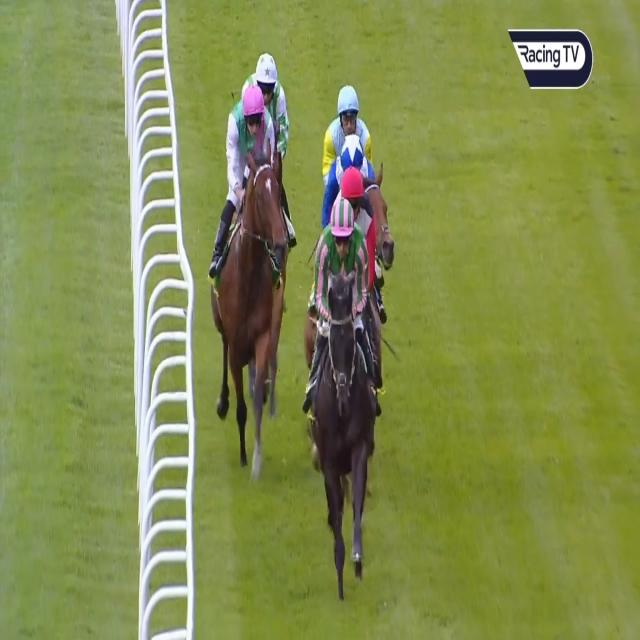horses-racing: (311, 198, 377, 584), (219, 90, 284, 452), (239, 50, 291, 163), (323, 174, 375, 254), (322, 80, 368, 149), (330, 138, 390, 189)
